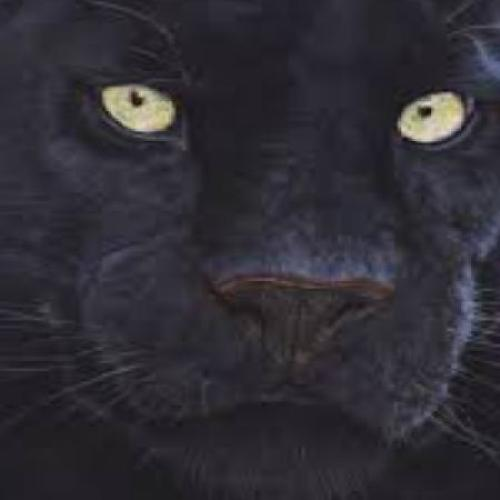panther-endangered: (15, 7, 489, 477)
